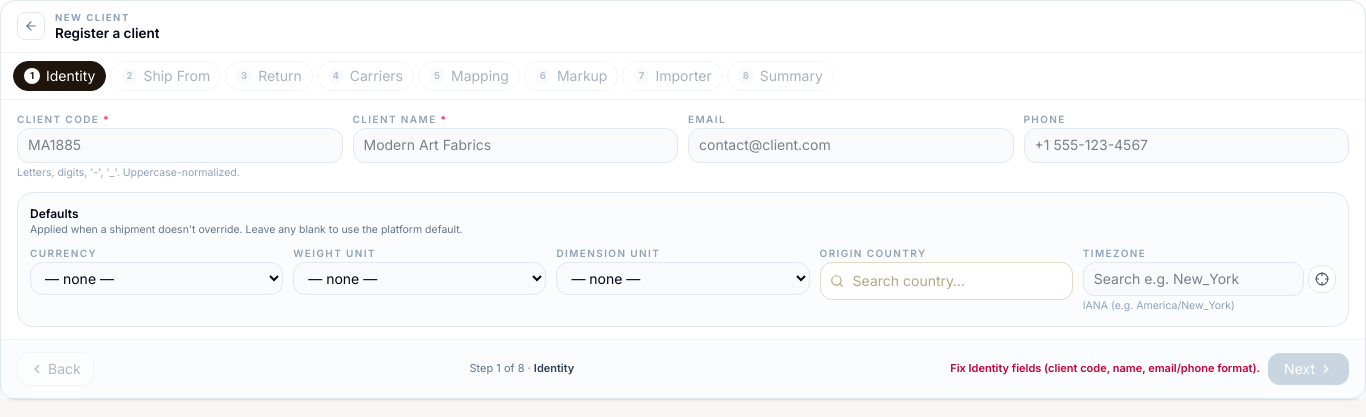
ClientEditorPage · Identity · negative › empty clientCode → touched → shows the required-field error + disables Next
Touch without typing.
Click the field with placeholder "MA1885" at (180, 146), box [17,128,342,163]
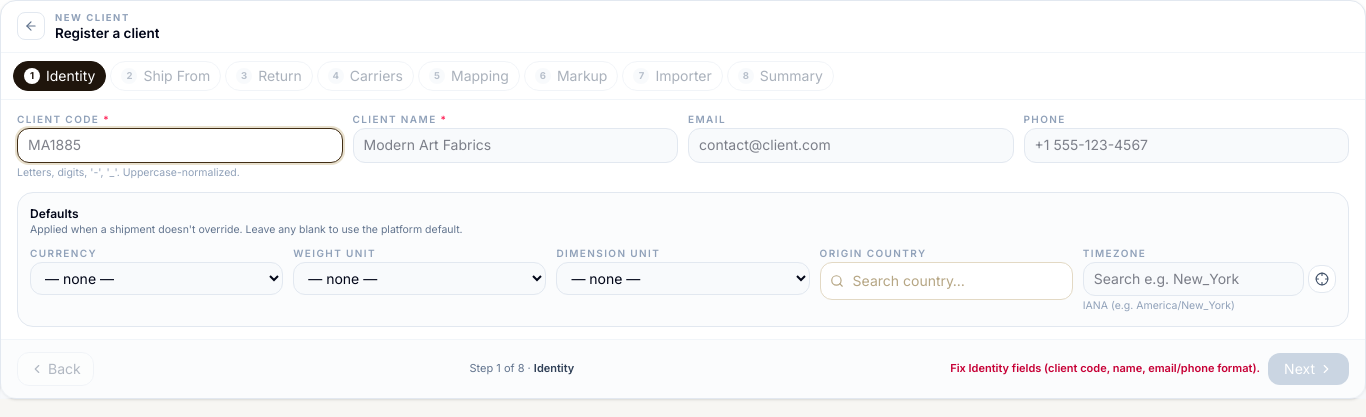
Press Tab
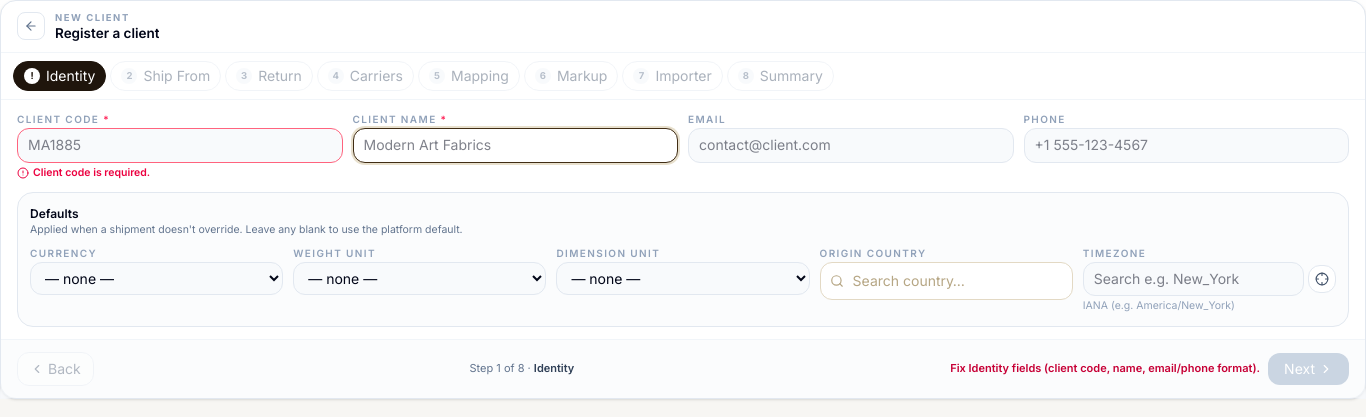
Check: the button "Next" is disabled, box [1268,353,1349,385]
Check: the text "Client code is required." is shown, box [17,166,150,179]
